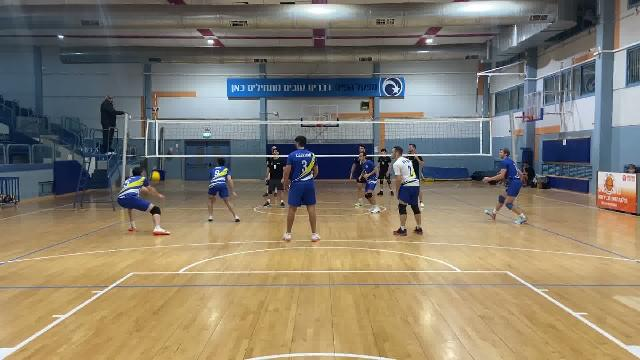ball: (147, 168, 163, 182)
